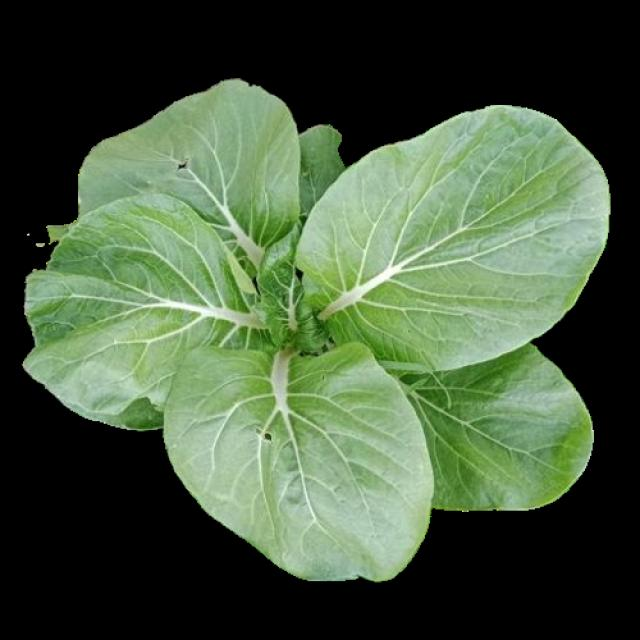mature: (23, 81, 607, 581)
unhealthy: (158, 338, 436, 581), (50, 82, 297, 244)
